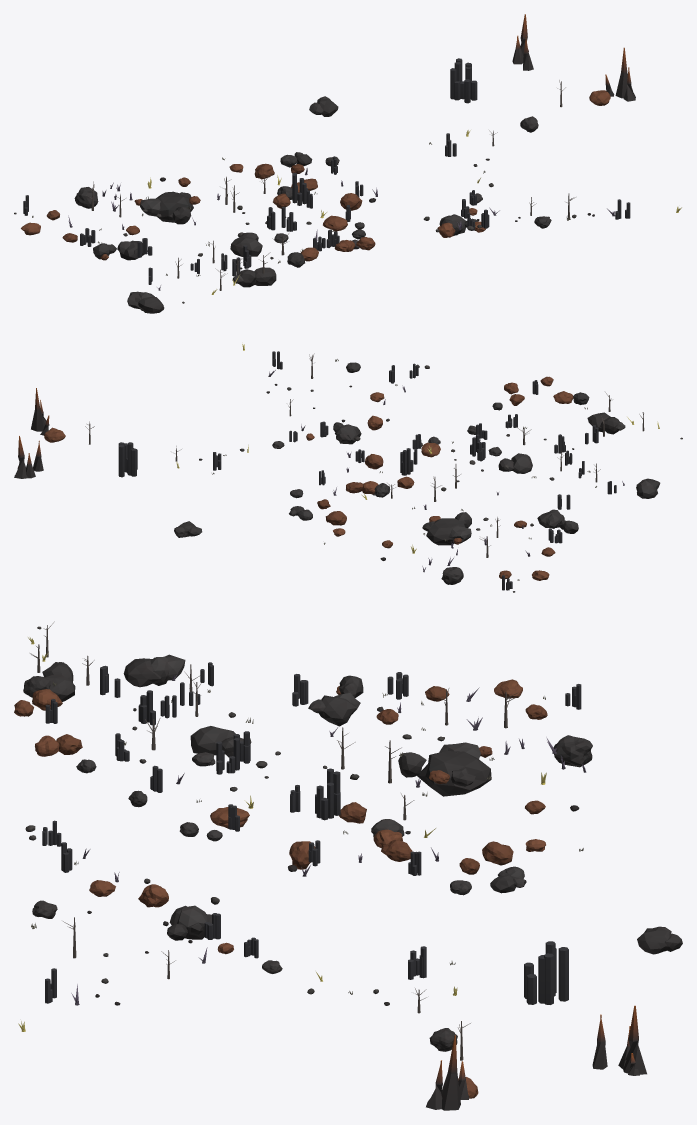
The model's file is ash_land_scatter_c21_27.glb.
3 renders of one model, top to bottom at view 1: azimuth 30°, elevation 25°; view 2: azimuth 150°, elevation 25°; view 3: azimuth 270°, elevation 25°, orthographic. The views are drawn at different scales.
Parts seen in each view (by area): view 1: ash_land_scatter_c21_27; view 2: ash_land_scatter_c21_27; view 3: ash_land_scatter_c21_27.
Part boxes in pixels (x1,y1,x2,y2): ash_land_scatter_c21_27: (14, 14, 681, 313); ash_land_scatter_c21_27: (14, 344, 682, 592); ash_land_scatter_c21_27: (14, 621, 682, 1110).
Bounding box in the file's own units: 176 × 23.07 × 112.
